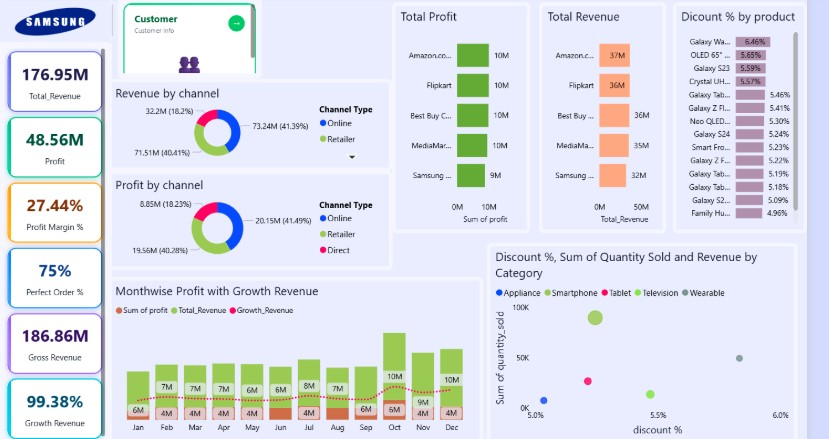

This screenshot's page, from the dashboard's own definition file:
{"tool":"powerbi","page":{"name":"Customer","canvas":[1280,720],"ordinal":5},"visuals":[{"type":"shape","box":[171.4,7.2,17.3,57.6],"z":0},{"type":"image","box":[0,0,180,85],"z":1000},{"type":"clusteredBarChart","title":"Total Revenue","fields":{"Y":["Measures Table.Total_Revenue"],"Category":["dim_customer.customer_name"]},"box":[855.4,7.2,201.6,365.8],"z":8000},{"type":"donutChart","title":"Revenue by channel","fields":{"Y":["Measures Table.Total_Revenue"],"Category":["dim_customer.channel_type"]},"box":[171.2,128.7,452.7,145.9],"z":9000},{"type":"donutChart","title":"Profit by channel","fields":{"Y":["Sum(fact_sales.profit)"],"Category":["dim_customer.channel_type"]},"box":[171.2,274.6,452.7,157.4],"z":10000},{"type":"clusteredBarChart","title":"Total Profit","fields":{"Y":["Sum(fact_sales.profit)"],"Category":["dim_customer.customer_name"]},"box":[623.5,7.2,218.9,365.8],"z":11000},{"type":"lineStackedColumnComboChart","title":"Monthwise Profit with Growth Revenue","fields":{"Category":["dim_date.month_short"],"Y":["Sum(fact_sales.profit)","Measures Table.Total_Revenue"],"Y2":["Measures Table.Growth_Revenue"]},"box":[171.4,443.5,596.2,266.4],"z":12000},{"type":"scatterChart","title":"Discount %, Sum of Quantity Sold and Revenue by Category","fields":{"X":["Measures Table.discount %"],"Y":["fact_sales.quantity_sold"],"Series":["dim_product.category"],"Size":["Measures Table.Total_Revenue"]},"box":[772.8,388.7,492.1,320.6],"z":13000},{"type":"clusteredBarChart","title":"Dicount % by product","fields":{"Y":["Measures Table.discount %"],"Category":["dim_product.product_name"]},"box":[1067,7.2,213.1,365.8],"z":14000},{"type":"htmlContent443BE3AD55E043BF878BED274D3A6855","fields":{"content":["Measures Table.HTML_Border_Nav_Customer"]},"box":[179.7,0,227.8,129.2],"z":15000},{"type":"htmlContent443BE3AD55E043BF878BED274D3A6855","fields":{"content":["Measures Table.HTML_CustomerBorder_KPI_Panel"]},"box":[0,79.9,179.7,640],"z":16000},{"type":"slicer","fields":{"Values":["dim_product.product_name"]},"box":[406.3,0,217.3,129.2],"z":16001}]}

Visuals, with their boxes on the page's 1280x720 design canvas (x1, y1, x2, y2). These are canvas units, not pixel positions in the 829x439 screenshot, which may show the page scaled, cropped or inside an application window:
shape: region(171, 7, 189, 65)
image: region(0, 0, 180, 85)
"Total Revenue" clusteredBarChart: region(855, 7, 1057, 373)
"Revenue by channel" donutChart: region(171, 129, 624, 275)
"Profit by channel" donutChart: region(171, 275, 624, 432)
"Total Profit" clusteredBarChart: region(624, 7, 842, 373)
"Monthwise Profit with Growth Revenue" lineStackedColumnComboChart: region(171, 444, 768, 710)
"Discount %, Sum of Quantity Sold and Revenue by Category" scatterChart: region(773, 389, 1265, 709)
"Dicount % by product" clusteredBarChart: region(1067, 7, 1280, 373)
htmlContent443BE3AD55E043BF878BED274D3A6855 - Measures Table.HTML_Border_Nav_Customer: region(180, 0, 408, 129)
htmlContent443BE3AD55E043BF878BED274D3A6855 - Measures Table.HTML_CustomerBorder_KPI_Panel: region(0, 80, 180, 720)
slicer - dim_product.product_name: region(406, 0, 624, 129)
